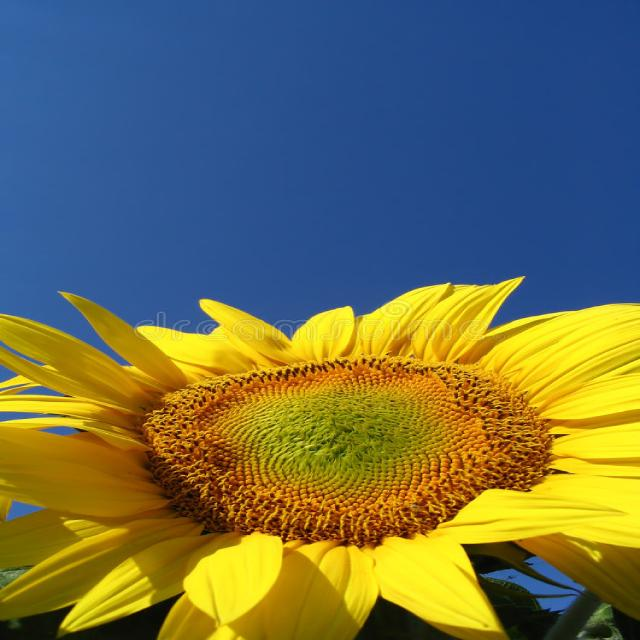sunflower: (2, 271, 639, 640)
